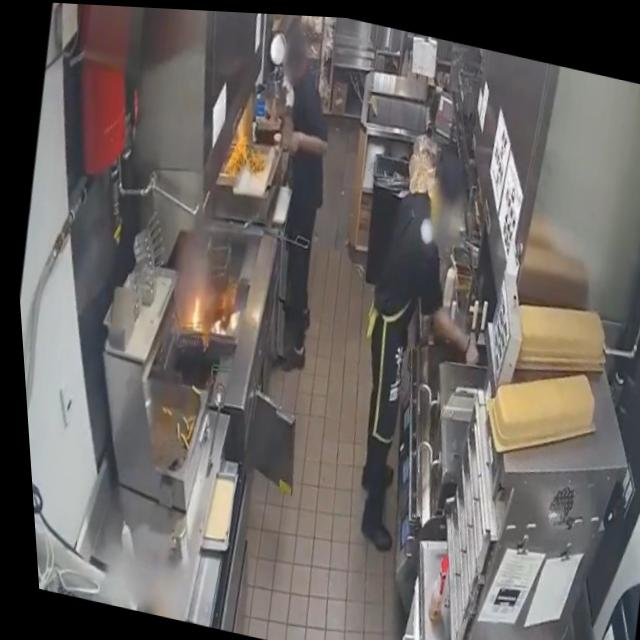fire: (180, 287, 201, 328), (203, 309, 224, 335)
